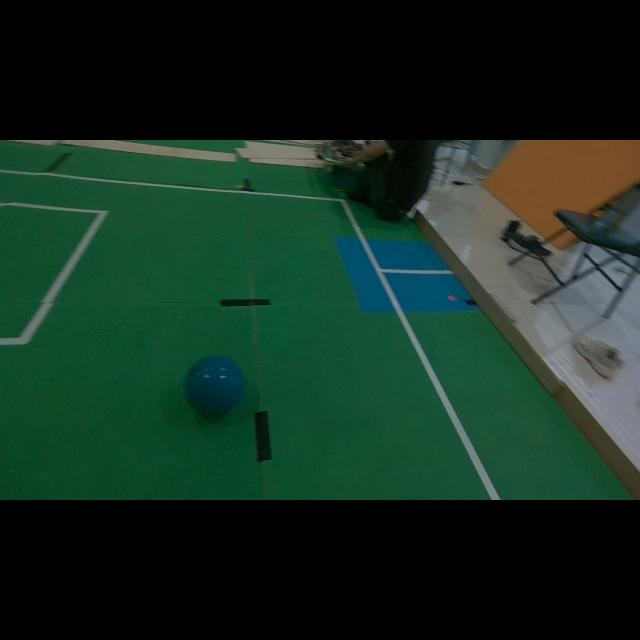B: (185, 358, 245, 414)
